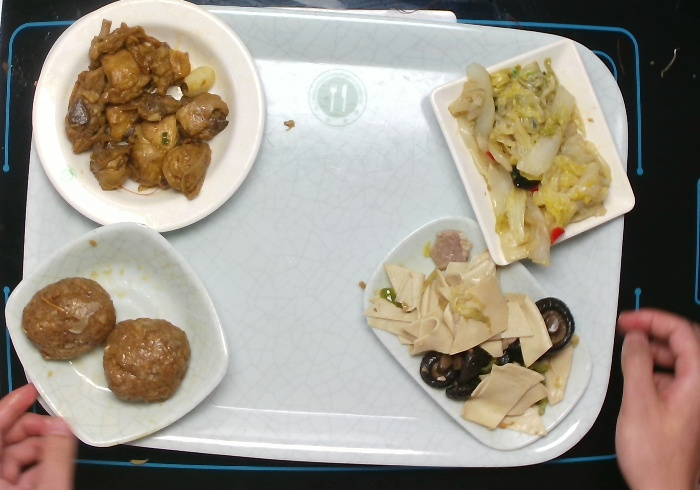WCQzf-Bai_Se_Si_Fang_Die: (424, 35, 640, 271)
WCQzf-Da_Si_Fang_Die: (1, 219, 235, 451)
WCQzf-Kuan_Bian_Yuan_Die: (29, 1, 267, 235)
WCQzf-Tuo_Yuan_Pan: (358, 209, 599, 455)
